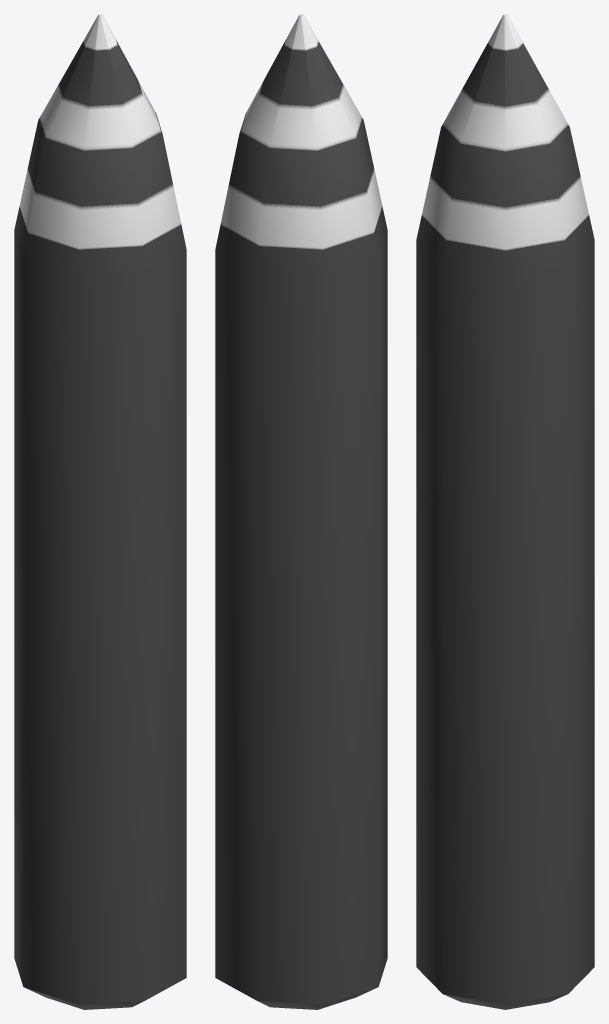
Rendered from Missile.fbx.
3 renders of one model, left to right at view 1: azimuth 30°, elevation 25°; view 2: azimuth 150°, elevation 25°; view 3: azimuth 270°, elevation 25°, orthographic.
Parts seen in each view (by area): view 1: Cylinder; view 2: Cylinder; view 3: Cylinder.
Boxes of the visible parts, x1,y1,x2,y2 form: Cylinder: [14, 14, 186, 1009]; Cylinder: [215, 14, 387, 1009]; Cylinder: [416, 14, 594, 1009].
Size of the model in its own units: 10 by 60 by 10.
1 material, 1 textured.
